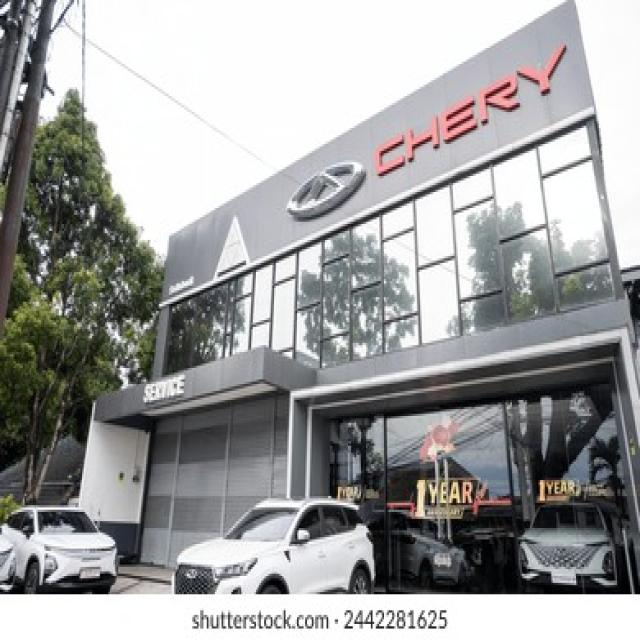cherry: (292, 159, 368, 224)
